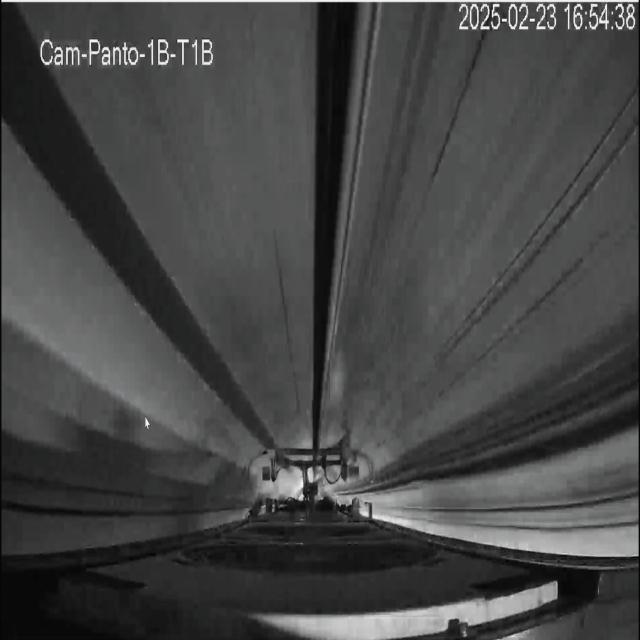Camera Stamp: (37, 29, 219, 70)
Date Stamp: (460, 3, 637, 33)
